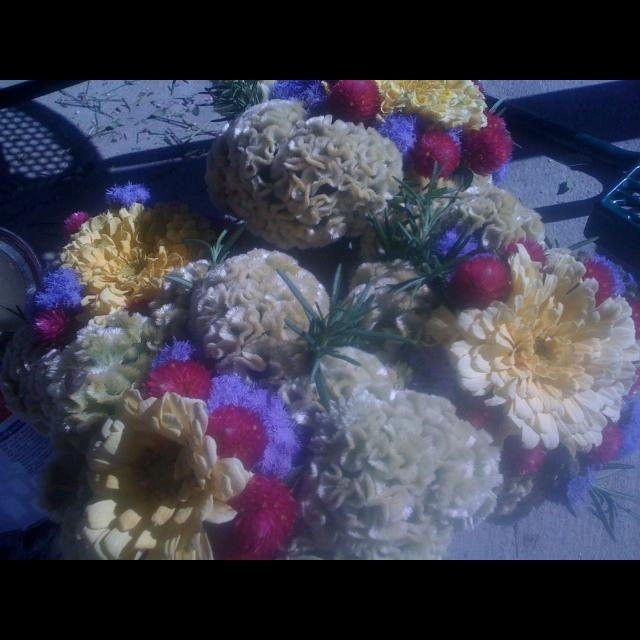Flower: (443, 236, 624, 474), (76, 392, 260, 560), (61, 201, 201, 319), (370, 80, 484, 132)
